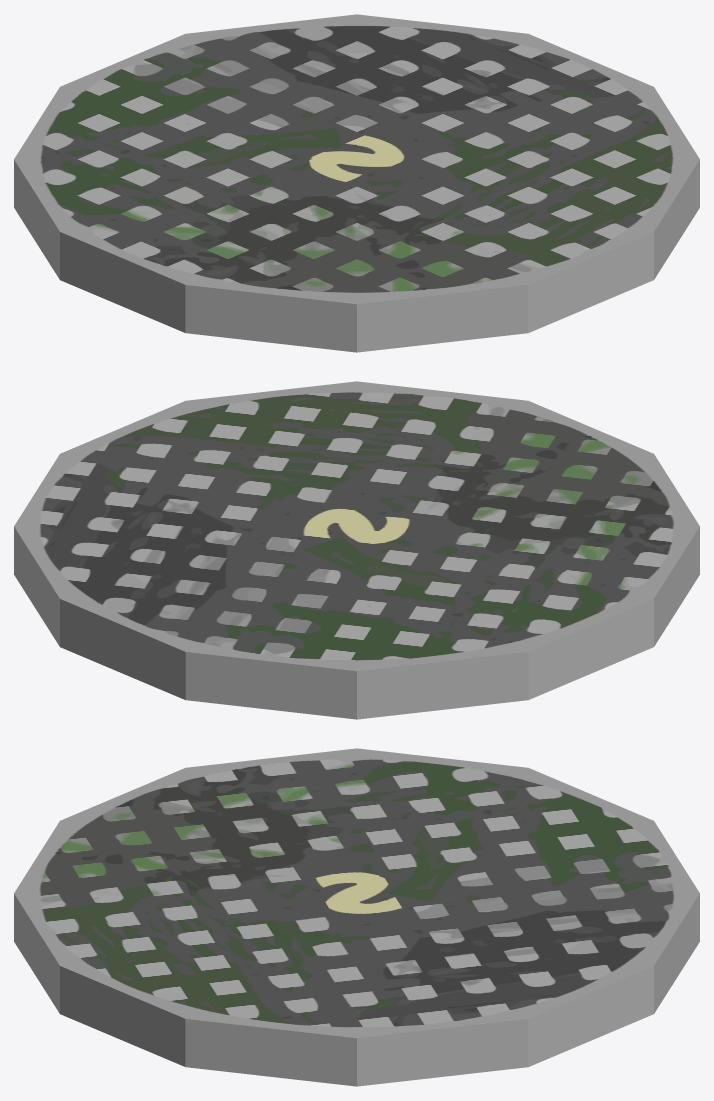
File: ManholeCover.fbx
3 renders of one model, top to bottom at view 1: azimuth 30°, elevation 25°; view 2: azimuth 150°, elevation 25°; view 3: azimuth 270°, elevation 25°, orthographic.
Parts seen in each view (by area): view 1: ManholeCover; view 2: ManholeCover; view 3: ManholeCover.
Boxes of the visible parts, x1,y1,x2,y2 form: ManholeCover: [14, 14, 699, 352]; ManholeCover: [14, 381, 699, 719]; ManholeCover: [14, 748, 699, 1086].
Bounding box in the file's own units: 1 × 0.0777 × 1.
